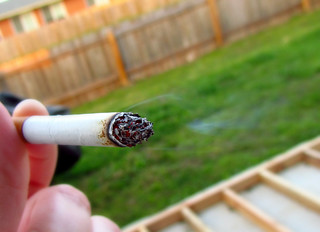cigarette: (4, 112, 156, 149)
